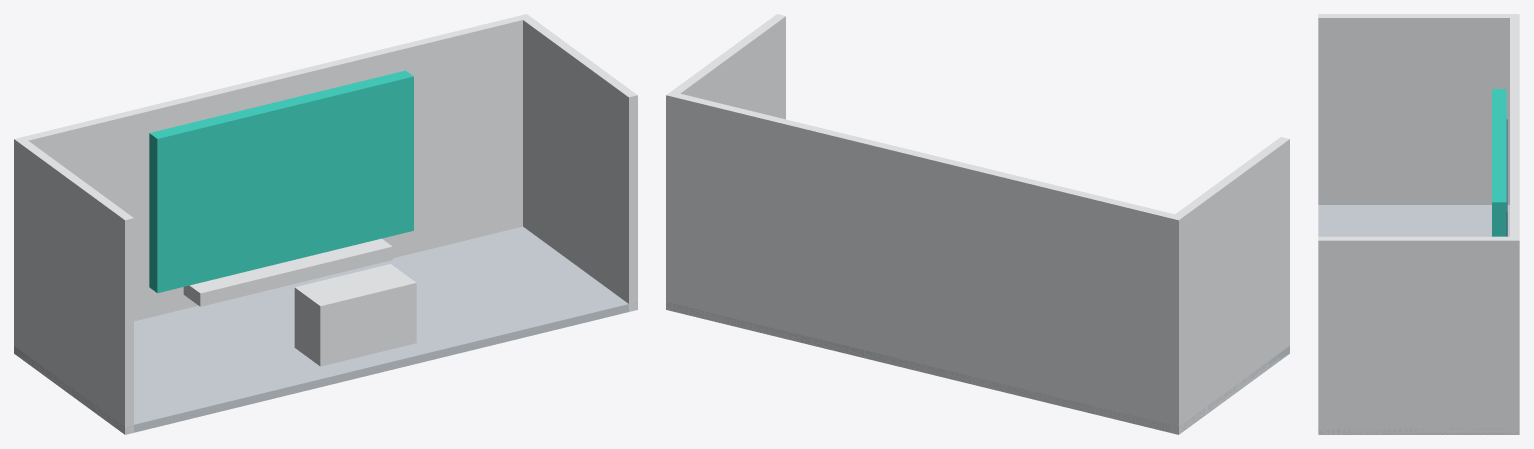
3 renders of one model, left to right at view 1: azimuth 30°, elevation 25°; view 2: azimuth 150°, elevation 25°; view 3: azimuth 270°, elevation 25°, orthographic. The views are drawn at different scales.
Visible parts, largest first — view 1: Exhibition Booth Concept; view 2: Exhibition Booth Concept; view 3: Exhibition Booth Concept.
Boxes of the visible parts, box(x1,y1,x2,y2) form: Exhibition Booth Concept: box(14, 14, 637, 434); Exhibition Booth Concept: box(666, 14, 1289, 434); Exhibition Booth Concept: box(1318, 14, 1519, 434).
Size of the model in its own units: 8 by 3.2 by 3.
